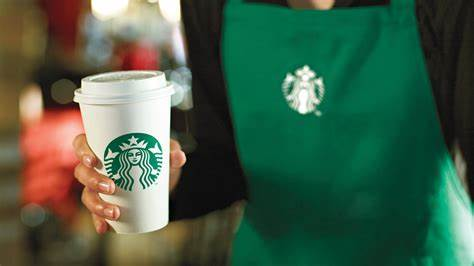starbucks Originale: (102, 129, 169, 199)
